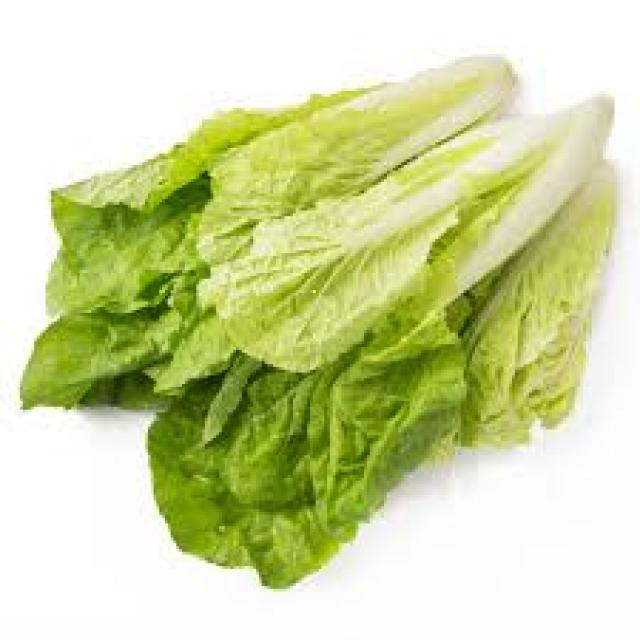organic waste: (14, 91, 612, 586), (40, 51, 515, 319)
